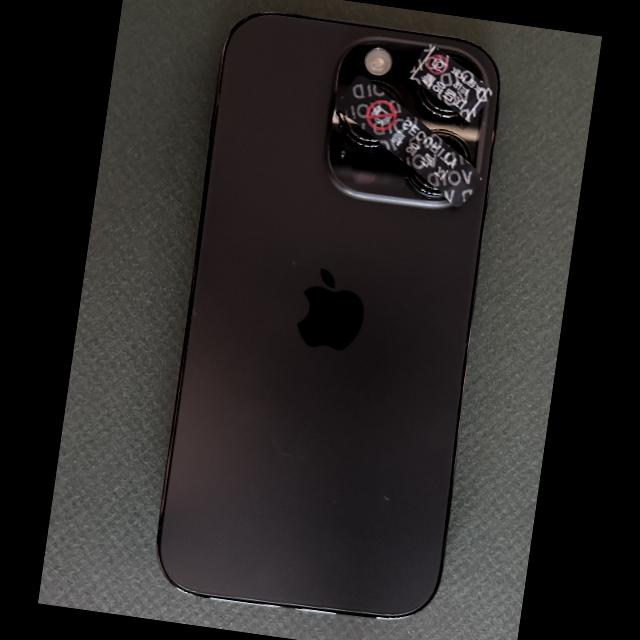lens: (338, 113, 381, 147), (415, 84, 459, 117), (431, 129, 470, 164)
phone: (155, 11, 500, 620)
sticker: (337, 75, 483, 208), (407, 44, 494, 123)
